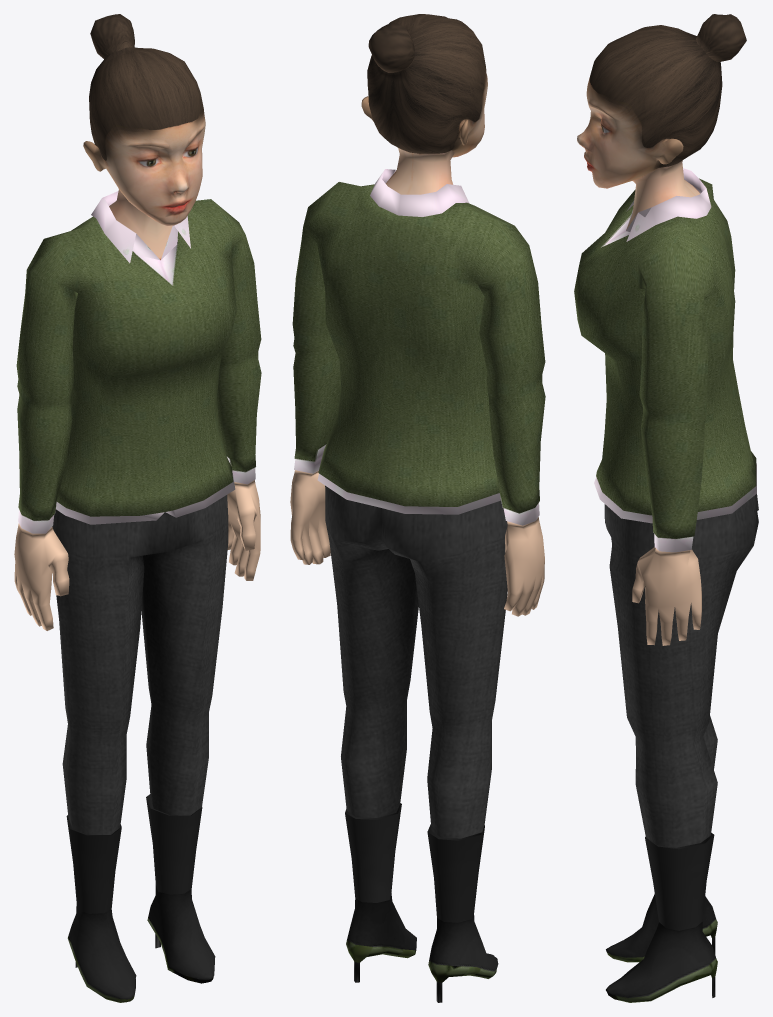
File: fperson05.glb
3 renders of one model, left to right at view 1: azimuth 30°, elevation 25°; view 2: azimuth 150°, elevation 25°; view 3: azimuth 270°, elevation 25°, orthographic. The views are drawn at different scales.
Visible parts, largest first — view 1: F_lBody_BaseMesh.001mesh.001; view 2: F_lBody_BaseMesh.001mesh.001; view 3: F_lBody_BaseMesh.001mesh.001.
Boxes of the visible parts, <box> form: F_lBody_BaseMesh.001mesh.001: <box>14,14,261,1002</box>; F_lBody_BaseMesh.001mesh.001: <box>290,14,545,1002</box>; F_lBody_BaseMesh.001mesh.001: <box>574,14,758,1002</box>.
Size of the model in its own units: 0.4791 by 1.83 by 0.3184.
2 materials, 2 textured.
